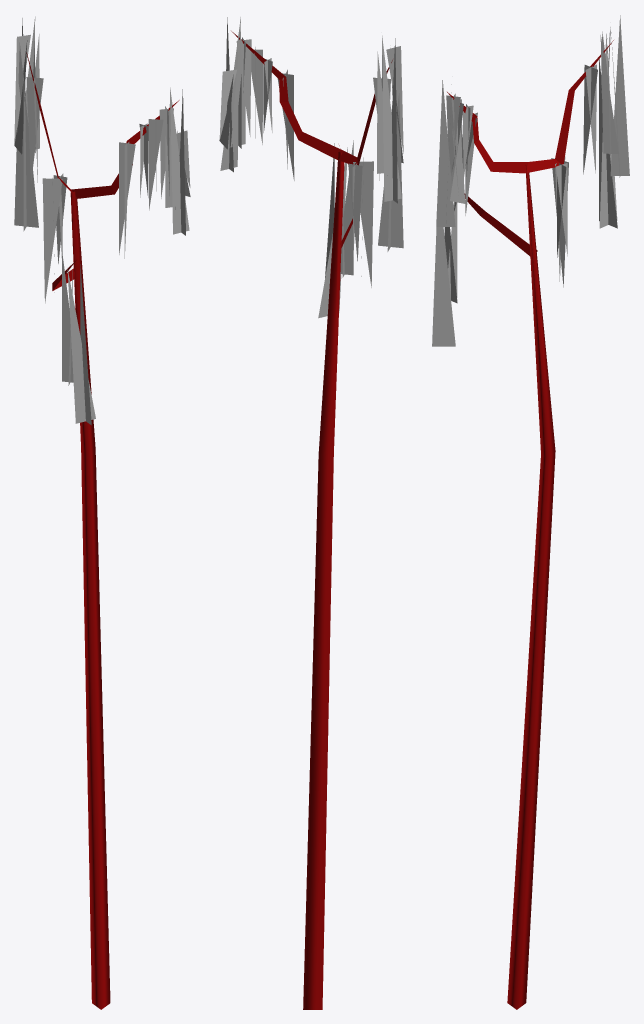
Rendered from env_forest_birchsmall02_lod1.fbx.
3 renders of one model, left to right at view 1: azimuth 30°, elevation 25°; view 2: azimuth 210°, elevation 25°; view 3: azimuth 270°, elevation 25°, orthographic. The views are drawn at different scales.
Parts seen in each view (by area): view 1: env_forest_birchsmall02_lod1__submesh0; view 2: env_forest_birchsmall02_lod1__submesh0; view 3: env_forest_birchsmall02_lod1__submesh0.
Boxes of the visible parts, x1,y1,x2,y2 form: env_forest_birchsmall02_lod1__submesh0: [14, 16, 190, 1009]; env_forest_birchsmall02_lod1__submesh0: [219, 17, 403, 1009]; env_forest_birchsmall02_lod1__submesh0: [432, 15, 629, 1009].
Bounding box in the file's own units: 8.33 × 58.67 × 10.76.
